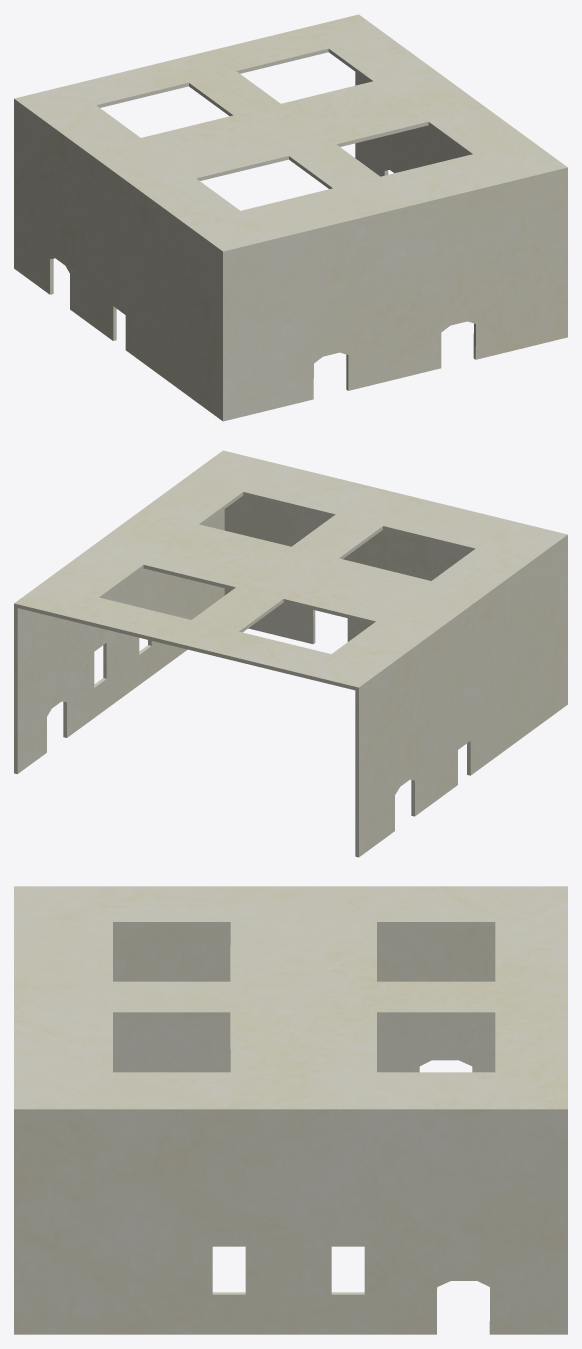
The model's file is Main_Room_Walls.fbx.
The picture shows the model from 3 angles, top to bottom: view 1: azimuth 30°, elevation 25°; view 2: azimuth 150°, elevation 25°; view 3: azimuth 270°, elevation 25°; orthographic projection. The views are drawn at different scales.
Visible parts, largest first — view 1: polySurface53; view 2: polySurface53; view 3: polySurface53.
Part boxes in pixels (left/top/right/bottom): polySurface53: left=14, top=14, right=567, bottom=421; polySurface53: left=14, top=450, right=567, bottom=857; polySurface53: left=14, top=886, right=567, bottom=1334.
Size of the model in its own units: 8000 by 3766 by 8400.
1 material, 1 textured.
